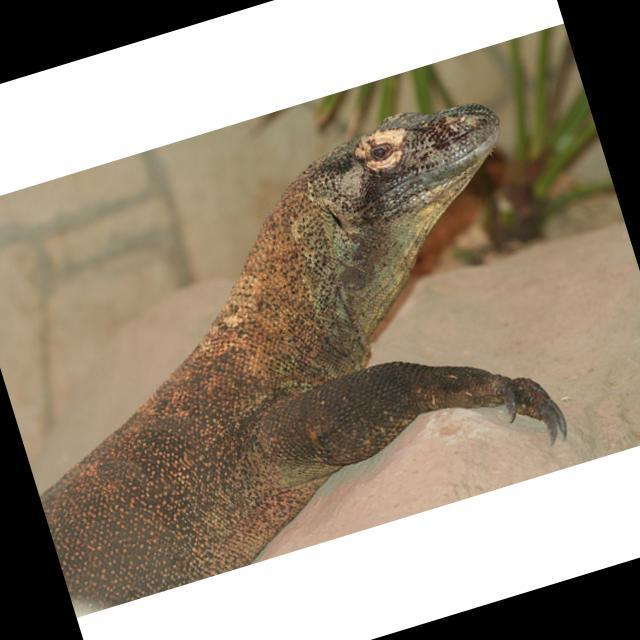KomodoDragon: (0, 84, 602, 613)
